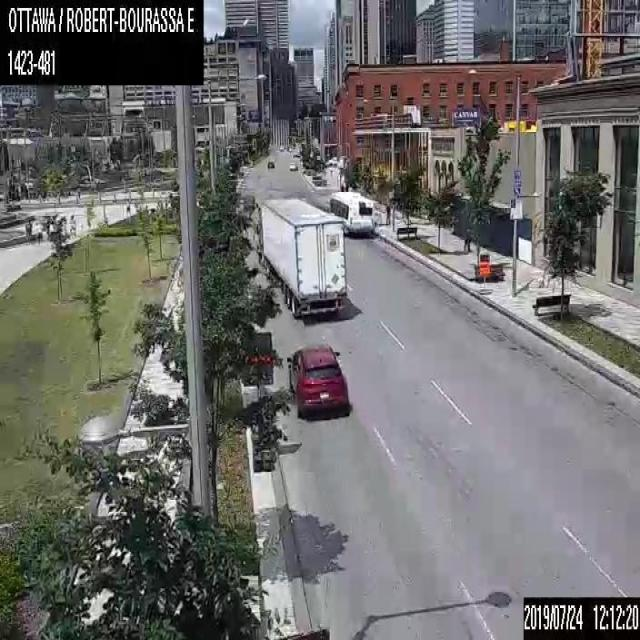bus: (328, 191, 373, 237)
construction: (239, 331, 273, 471), (477, 260, 490, 292)
pedestrian: (385, 206, 390, 226)
vehicle: (255, 194, 346, 318), (286, 342, 349, 418), (288, 161, 296, 170), (266, 159, 274, 168)
